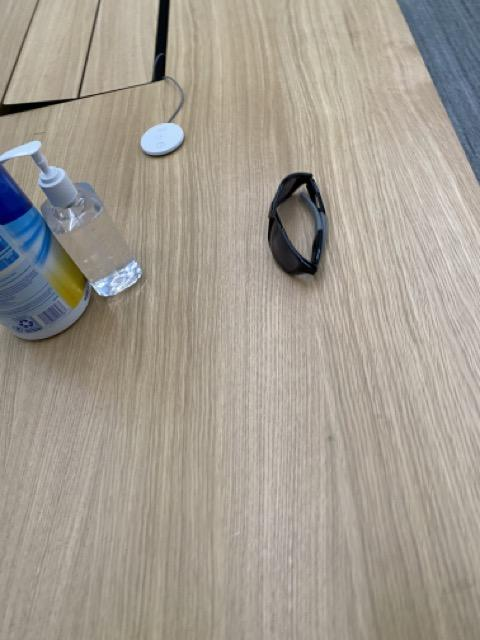Sunglasses: (268, 171, 329, 278)
